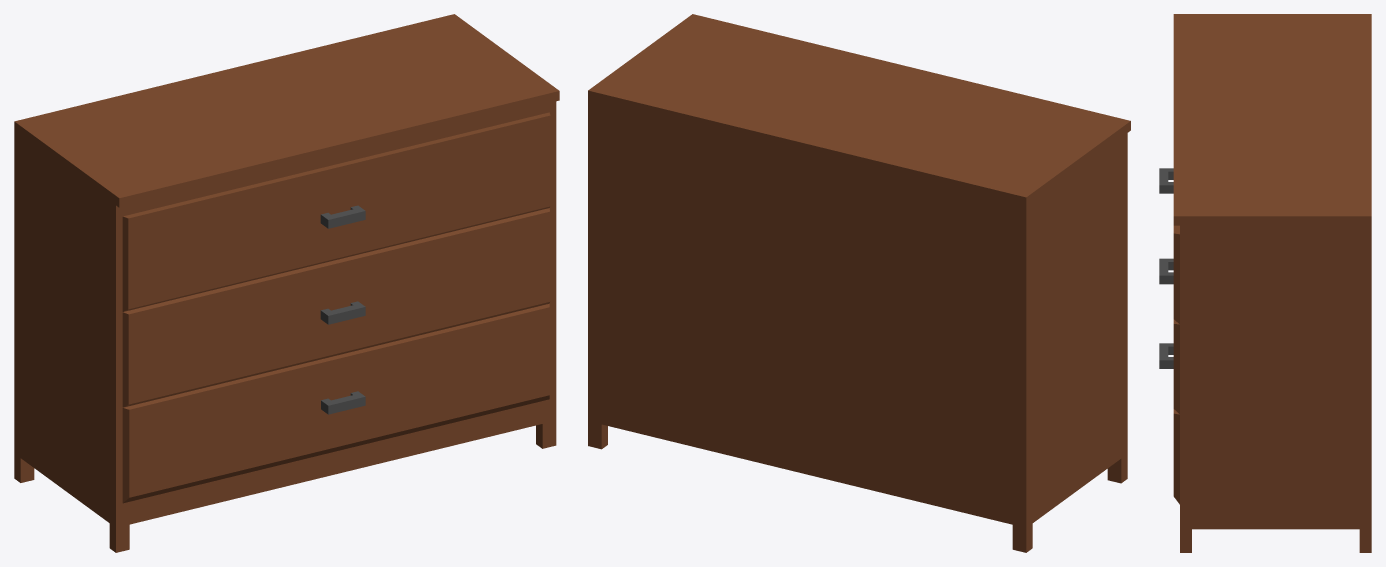
The model's file is drawer01.obj.
3 views of the same model, side by side, from view 1: azimuth 30°, elevation 25°; view 2: azimuth 150°, elevation 25°; view 3: azimuth 270°, elevation 25° (orthographic). The views are drawn at different scales.
Visible parts, largest first — view 1: Cube; view 2: Cube; view 3: Cube.
Boxes of the visible parts, x1,y1,x2,y2 form: Cube: (14,14,559,552); Cube: (588,14,1130,552); Cube: (1159,14,1371,552).
Bounding box in the file's own units: 1.2 × 0.9302 × 0.5313.
